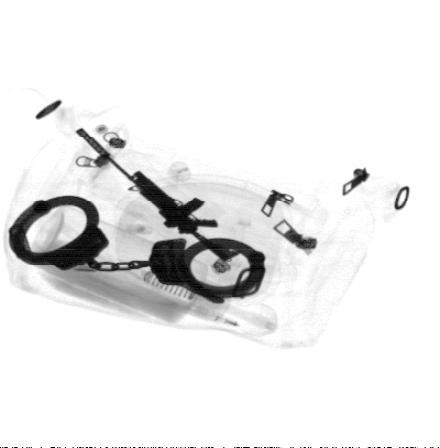Gun: (74, 127, 246, 263)
HandCuffs: (10, 196, 267, 305)
